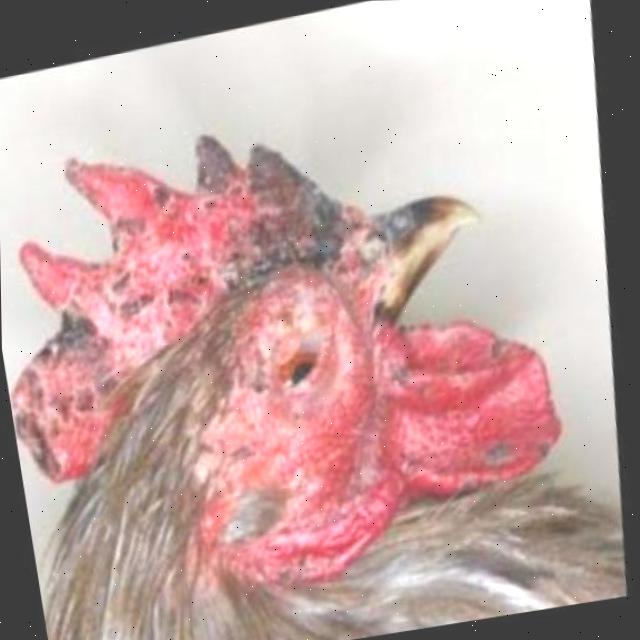Coryza: (210, 279, 370, 472)
